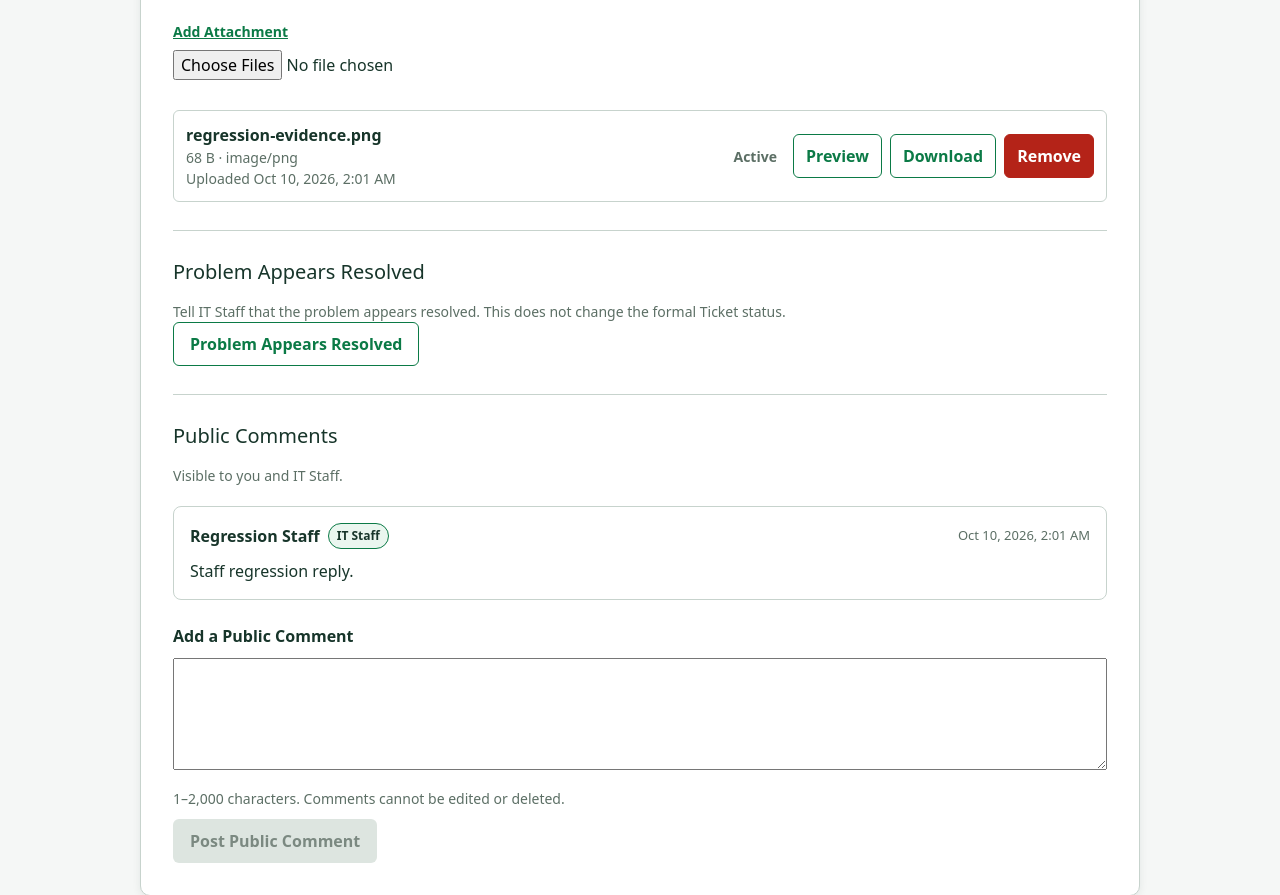
Test: Lab 2/3 current-schema UI regression › keeps Ticket Detail ownership, Attachments, Public Comments, and private Notes boundaries
The width and height of the screenshot is (1280, 895).
(page scrolled)
Expected: the text "regression-evidence.png" is shown, [186, 124, 382, 146]
Expected: the text "Staff regression reply." is shown, [190, 560, 354, 582]
In the text box labelled "Add a Public Comment": (640, 714) [173, 658, 1107, 770], type "Requester regression comment."
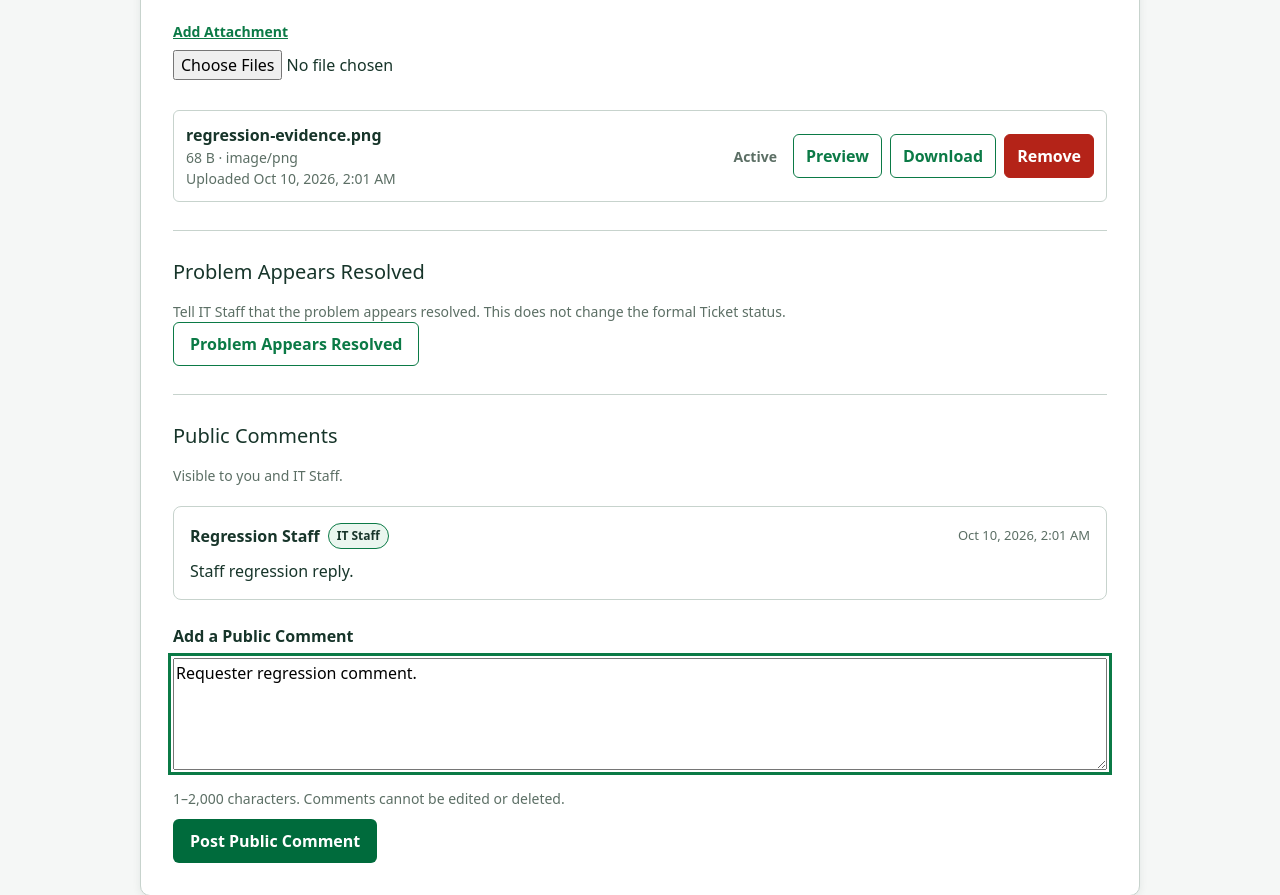
Click the button "Post Public Comment": (275, 841) [173, 819, 377, 863]
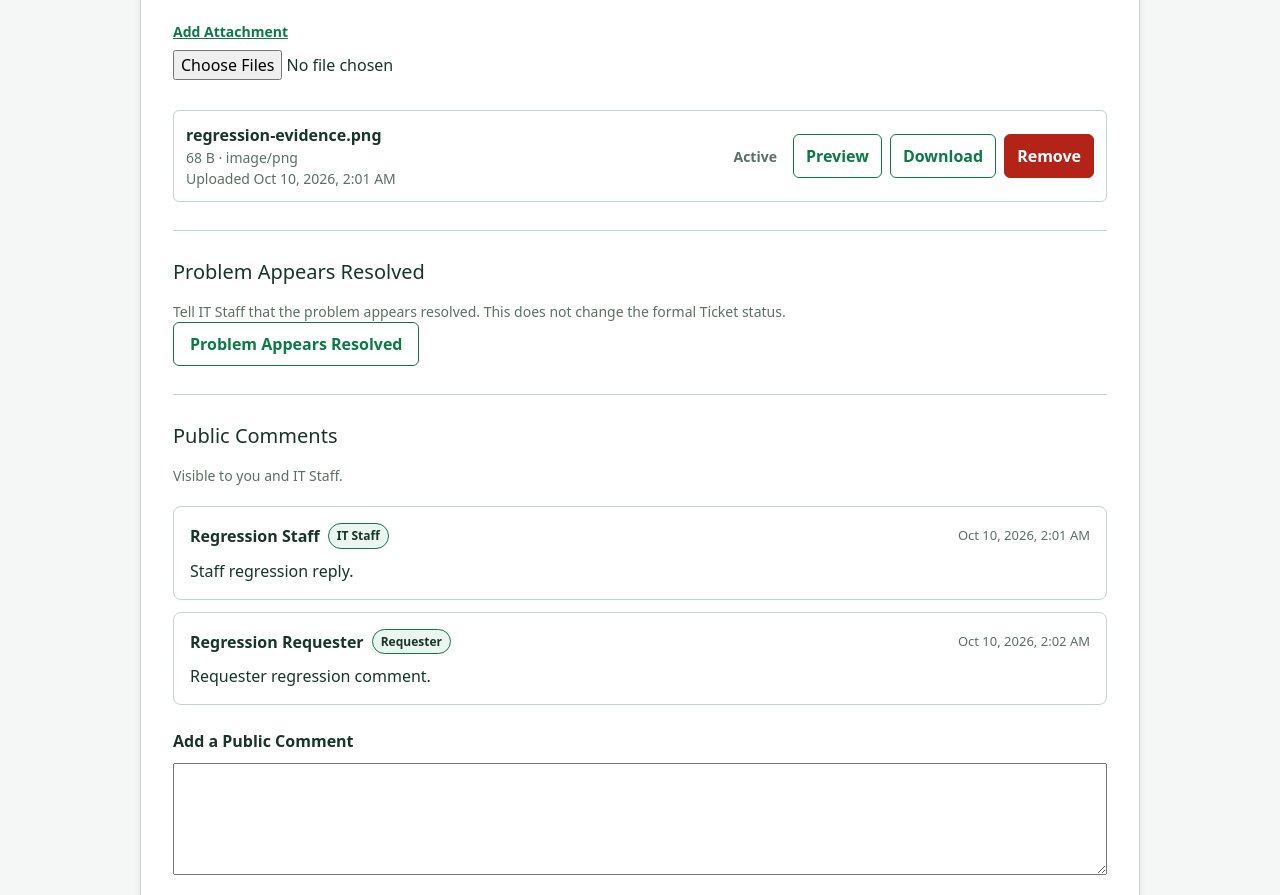
Expected: the text "Requester regression comment." is shown, [190, 666, 431, 688]
